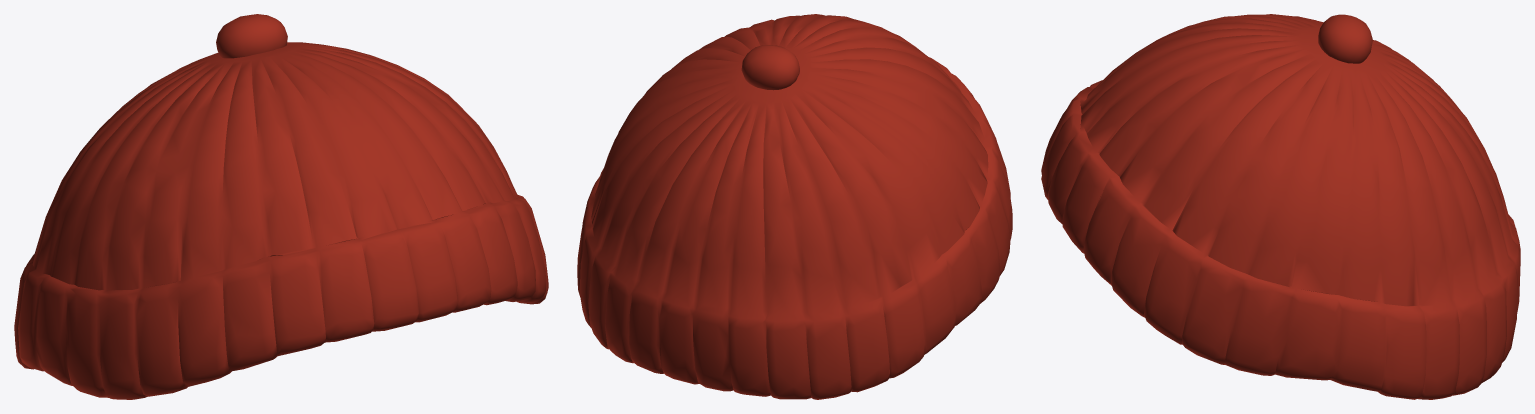
The model's file is headwear-beanie-red-3a5c62c0.glb.
3 views of the same model, side by side, from view 1: azimuth 30°, elevation 25°; view 2: azimuth 150°, elevation 25°; view 3: azimuth 270°, elevation 25° (orthographic). The views are drawn at different scales.
Visible parts, largest first — view 1: Geo_Black_Old_Male_Beanie_Red.001; view 2: Geo_Black_Old_Male_Beanie_Red.001; view 3: Geo_Black_Old_Male_Beanie_Red.001.
Boxes of the visible parts, x1,y1,x2,y2 form: Geo_Black_Old_Male_Beanie_Red.001: (14, 14, 548, 399); Geo_Black_Old_Male_Beanie_Red.001: (577, 14, 1012, 399); Geo_Black_Old_Male_Beanie_Red.001: (1041, 14, 1520, 399).
Bounding box in the file's own units: 1.42 × 1.05 × 1.45.
